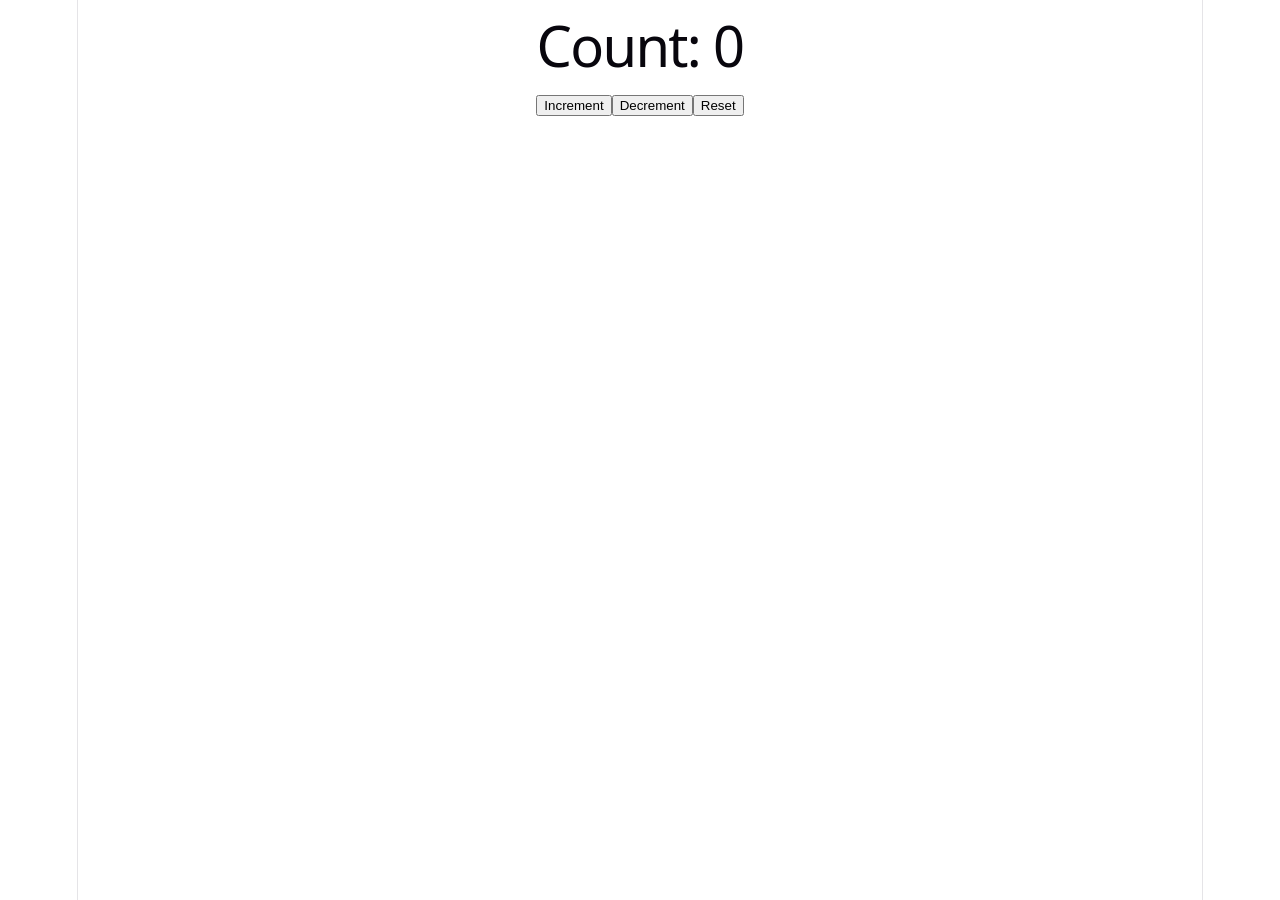
Counter Application Tests › increments count from 0 to 1
Click the button "Increment" at (574, 106), box x1=536 y1=95 x2=612 y2=116
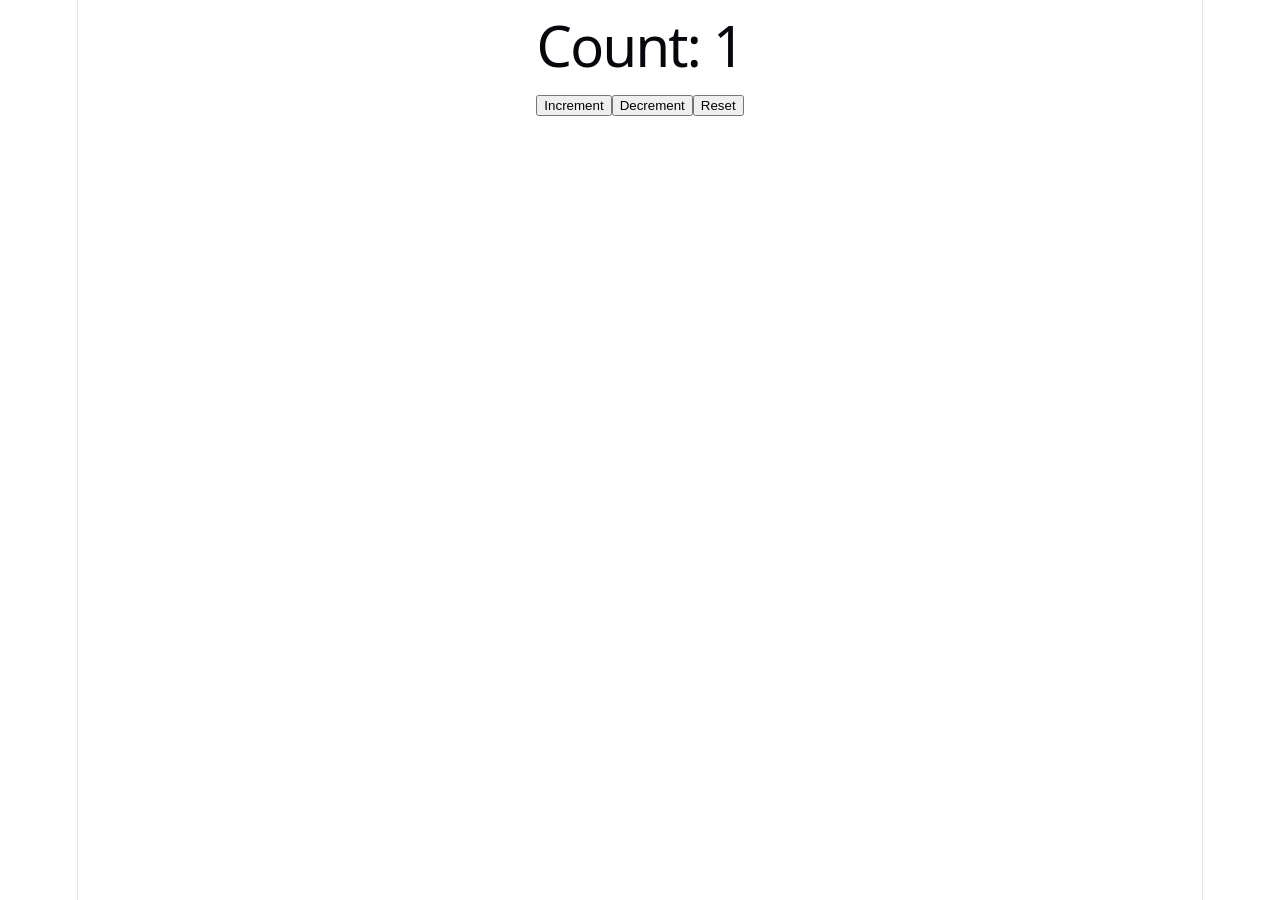
Expected: the heading "Count: 1" is shown, x1=537 y1=7 x2=744 y2=83
